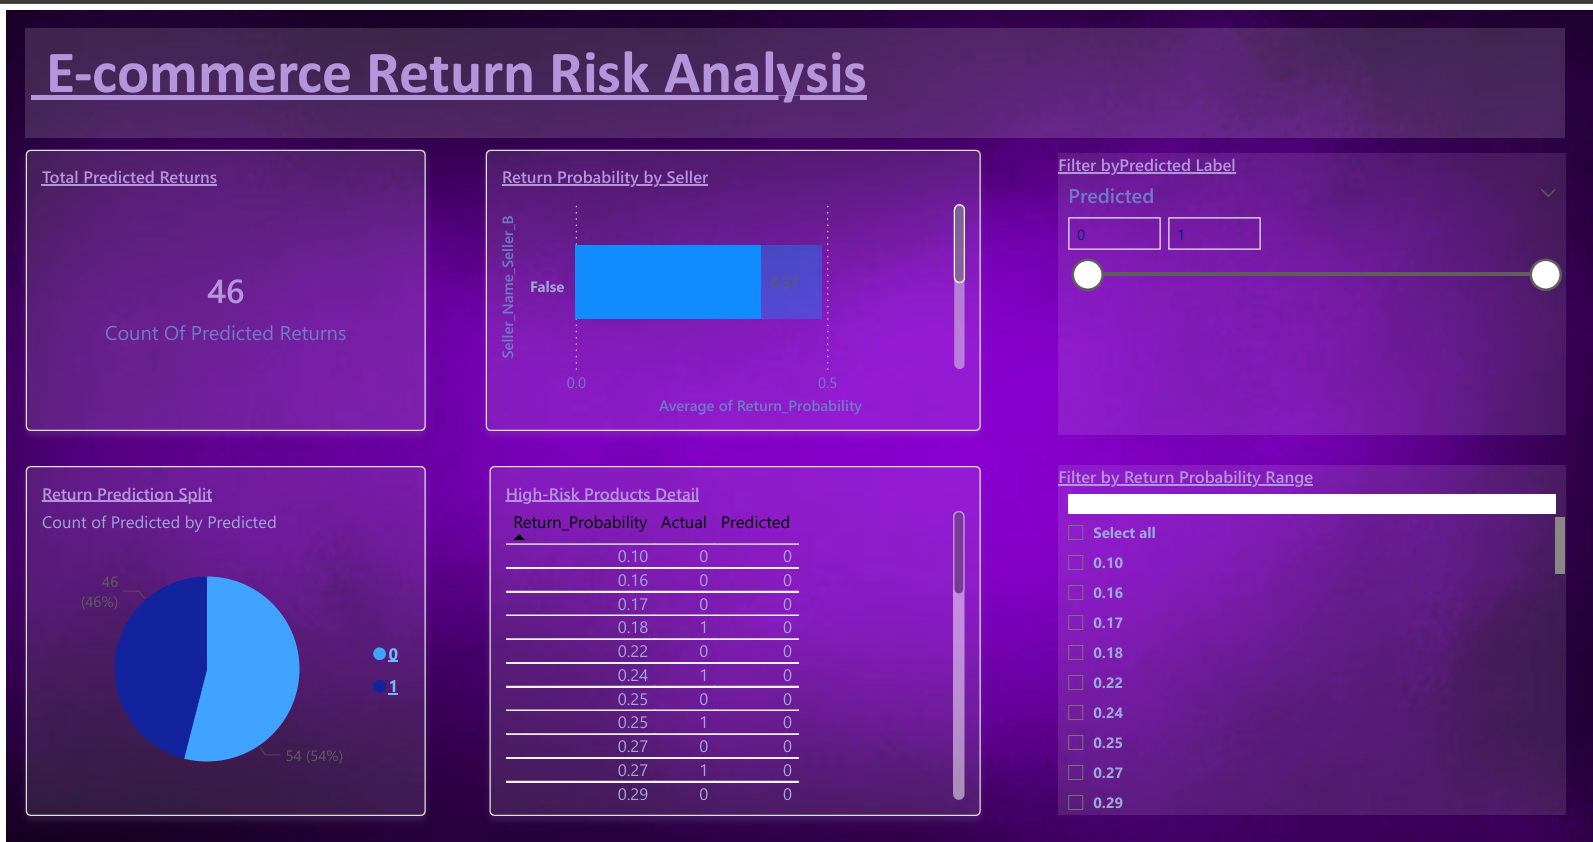

This screenshot's page, from the dashboard's own definition file:
{"tool":"powerbi","page":{"name":"Page 1","canvas":[1280,720],"ordinal":0},"visuals":[{"type":"pieChart","title":"Return Prediction Split","fields":{"Category":["high_risk_products.Predicted"],"Y":["CountNonNull(high_risk_products.Predicted)"]},"box":[15.1,363.6,319.7,279.9],"z":0},{"type":"clusteredBarChart","title":"Return Probability by Seller","fields":{"Y":["Avg(high_risk_products.Return_Probability)"],"Category":["high_risk_products.Seller_Name_Seller_B","high_risk_products.Seller_Name_Seller_C","high_risk_products.Seller_Name_Seller_D","high_risk_products.Seller_Name_Seller_E"]},"box":[382.8,111.1,396.6,225],"z":1000},{"type":"tableEx","title":" High-Risk Products Detail","fields":{"Values":["high_risk_products.Return_Probability","high_risk_products.Actual","high_risk_products.Predicted"]},"box":[385.6,363.6,393.8,279.9],"z":2000},{"type":"slicer","title":" Filter by Return Probability Range ","fields":{"Values":["high_risk_products.Return_Probability"]},"box":[841.2,363.6,406.2,279.9],"z":3000},{"type":"card","title":"Total Predicted Returns","fields":{"Values":["high_risk_products.CountOfPredictedReturns"]},"box":[15.1,111.1,319.7,225],"z":4000},{"type":"textbox","box":[15.1,13.7,1232.3,87.8],"z":5000},{"type":"slicer","title":" Filter byPredicted Label","fields":{"Values":["high_risk_products.Predicted"]},"box":[841.2,113.9,406.2,225],"z":6000}]}

Visuals, with their boxes on the page's 1280x720 design canvas (x1, y1, x2, y2). These are canvas units, not pixel positions in the 1593x842 screenshot, which may show the page scaled, cropped or inside an application window:
"Return Prediction Split" pieChart: bbox=(15, 364, 335, 644)
"Return Probability by Seller" clusteredBarChart: bbox=(383, 111, 779, 336)
" High-Risk Products Detail" tableEx: bbox=(386, 364, 779, 644)
" Filter by Return Probability Range " slicer: bbox=(841, 364, 1247, 644)
"Total Predicted Returns" card: bbox=(15, 111, 335, 336)
textbox: bbox=(15, 14, 1247, 102)
" Filter byPredicted Label" slicer: bbox=(841, 114, 1247, 339)
